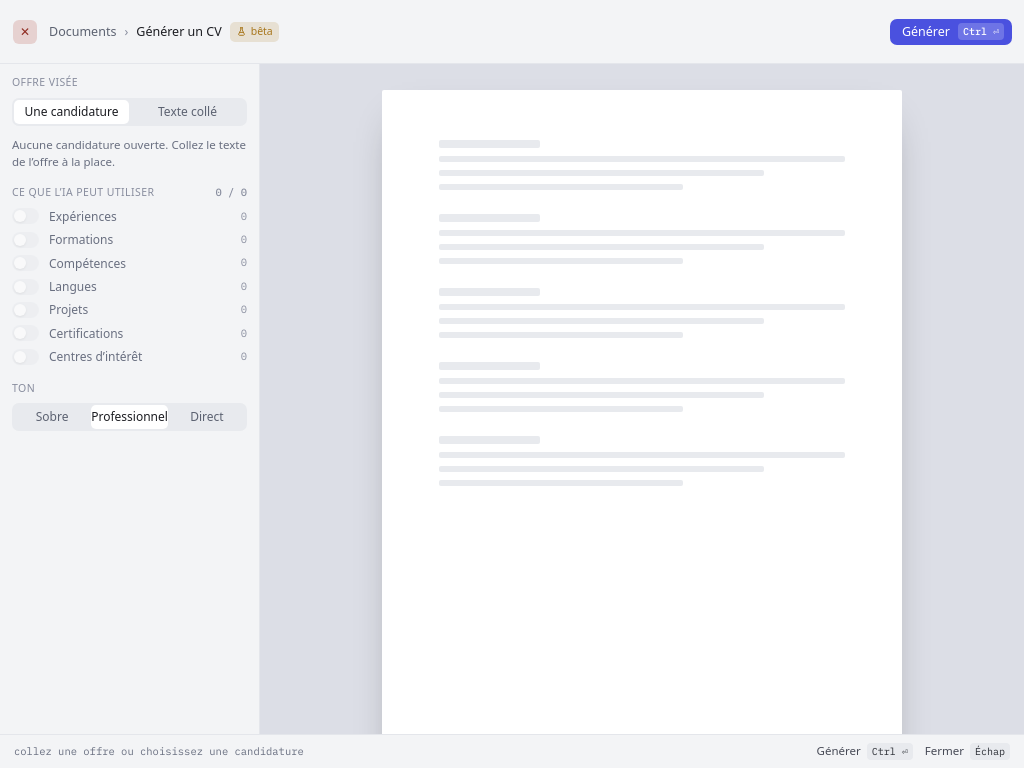
Test: décisions ATS et confirmation profil dans le générateur de CV › efface l'offre une fois le CV généré, et sait y revenir
Click the tab "Texte collé": (188, 112) 130,100 -> 245,124
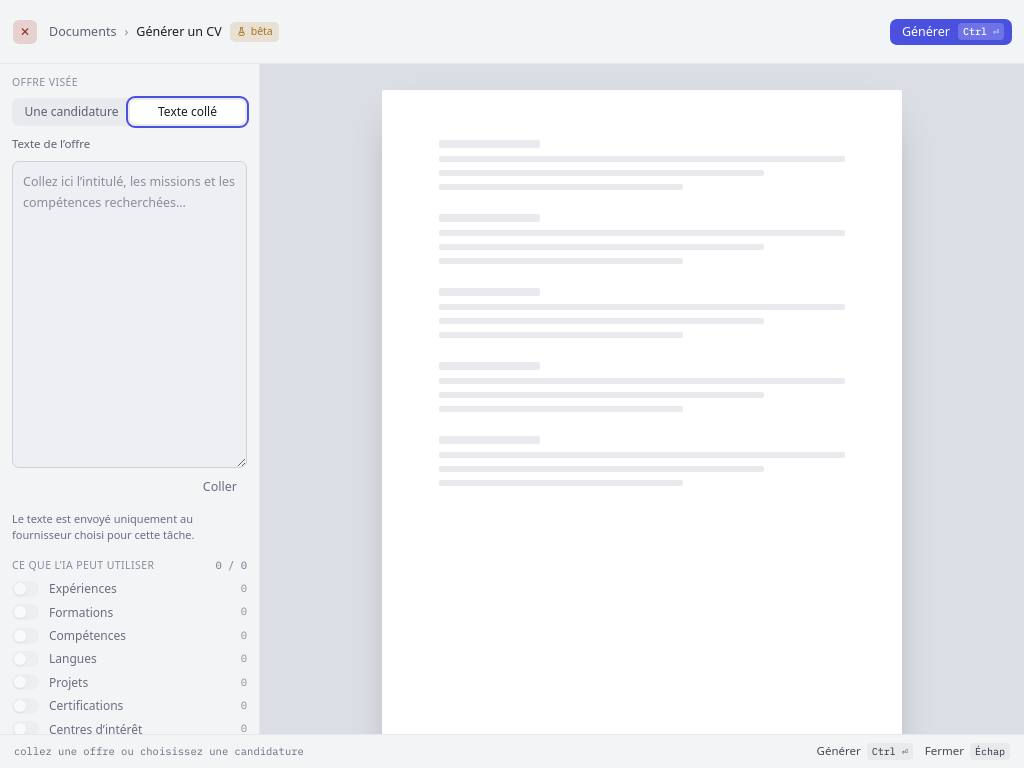
In the text box labelled "Texte de l’offre": (130, 314) 12,161 -> 247,468, type "Une offre"
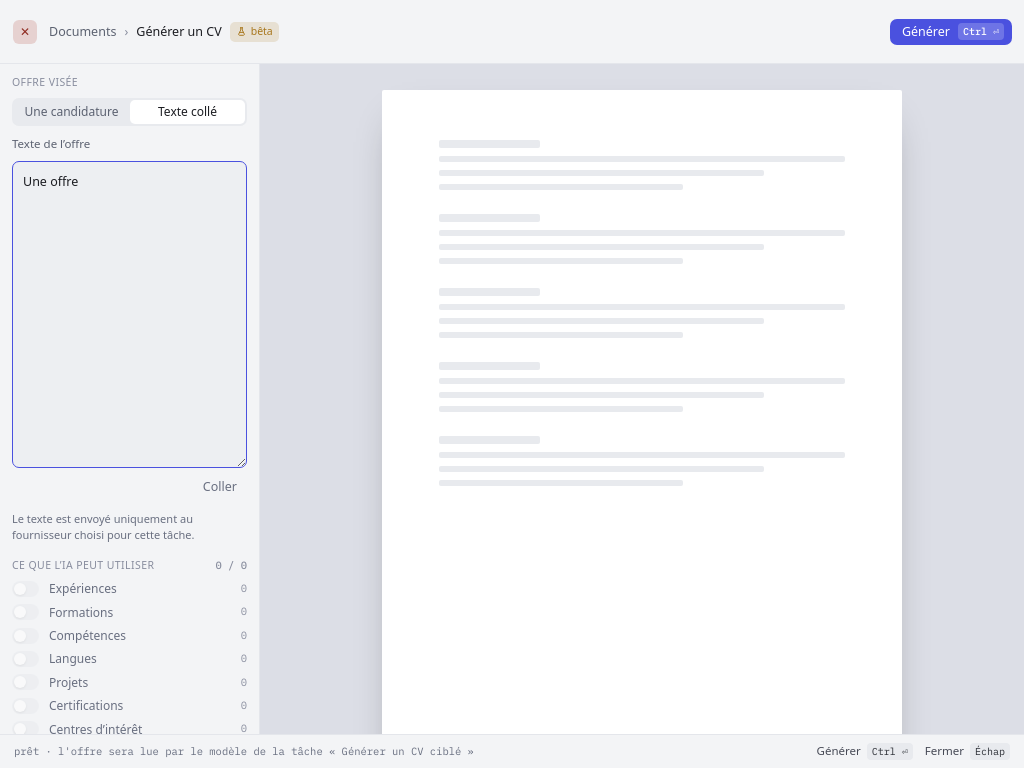
Click the button "Générer Ctrl ⏎": (951, 32) 890,18 -> 1012,44
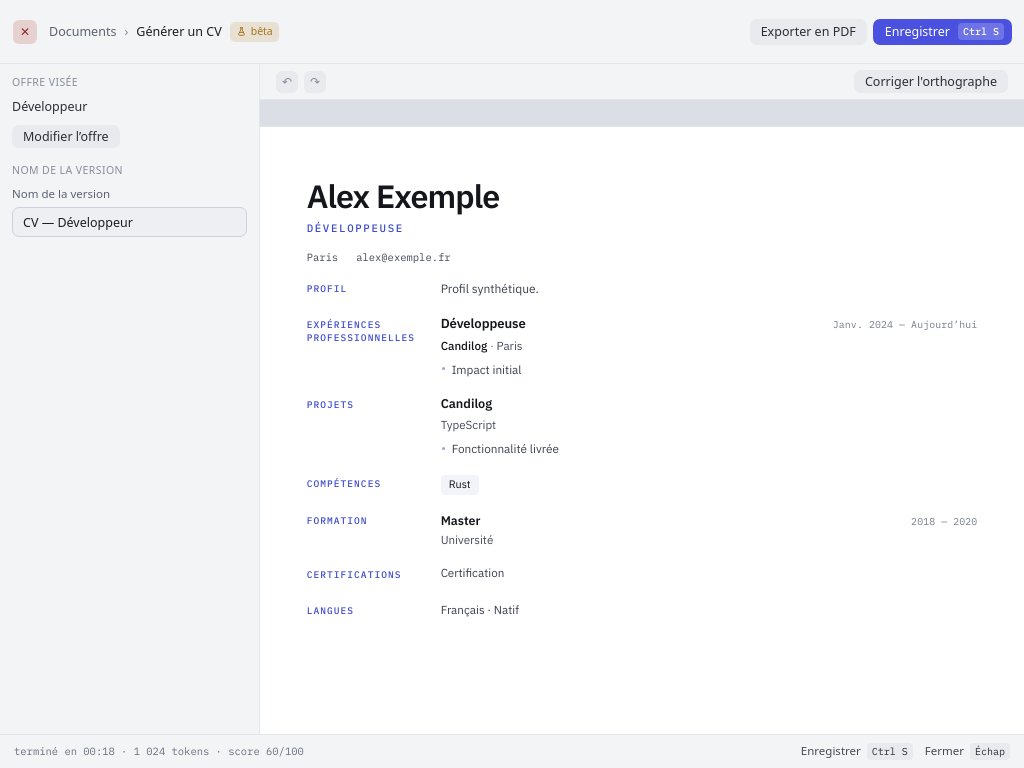
Result: the label labelled "Texte de l’offre" is gone
Click the button "Modifier l’offre": (66, 137) 12,125 -> 120,148
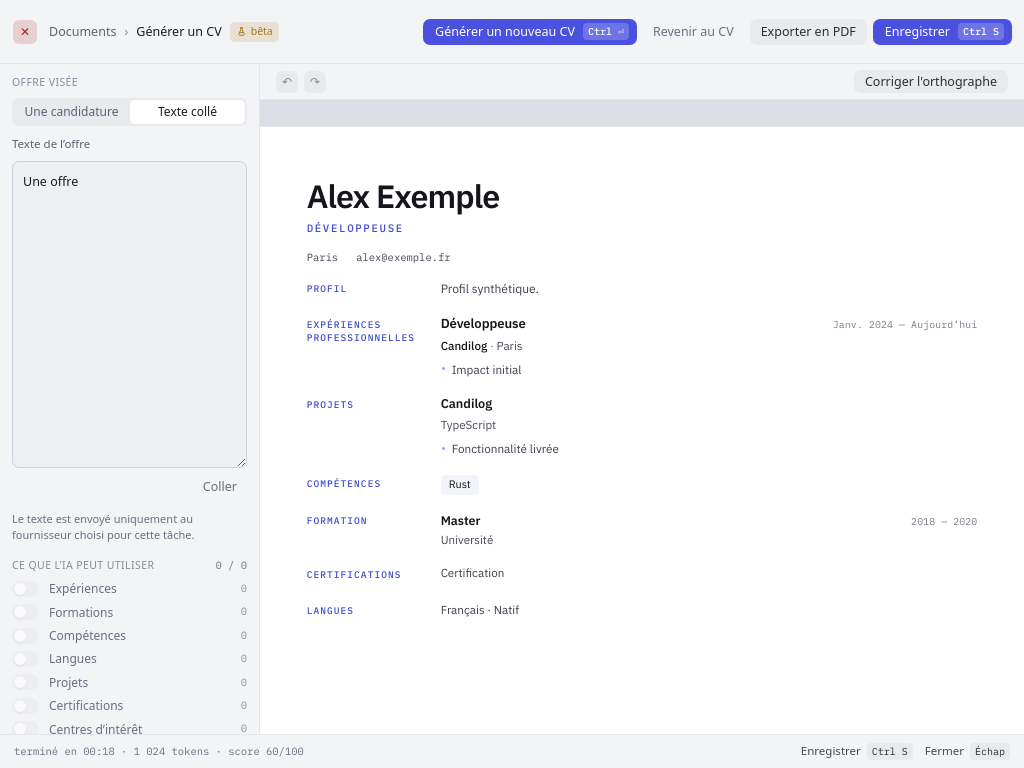
Result: the text box labelled "Texte de l’offre" is shown at 12,161 -> 247,468
Click the button "Revenir au CV": (693, 32) 643,18 -> 744,44
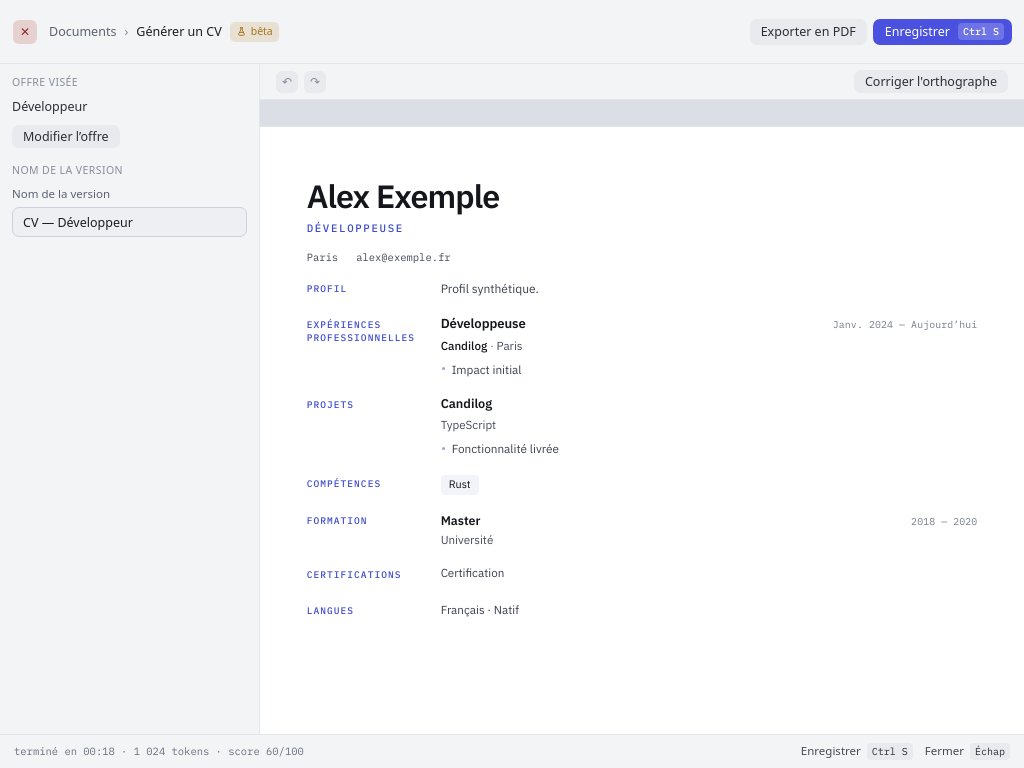
Result: the label labelled "Texte de l’offre" is gone
